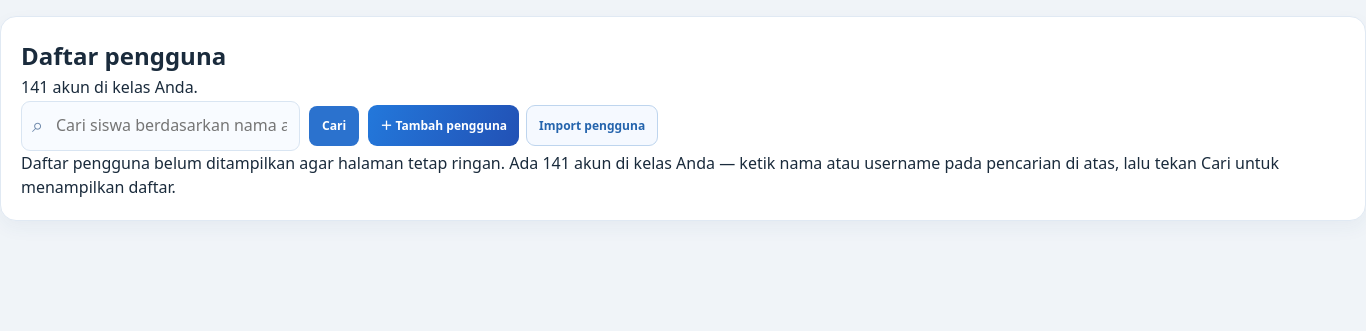
UsersPanel › teacher search-first mode renders results after searching and can reset to the initial state
Type "siswa" into the field with placeholder "Cari siswa berdasarkan nama atau username…" at (160, 126), box [21, 101, 300, 151]
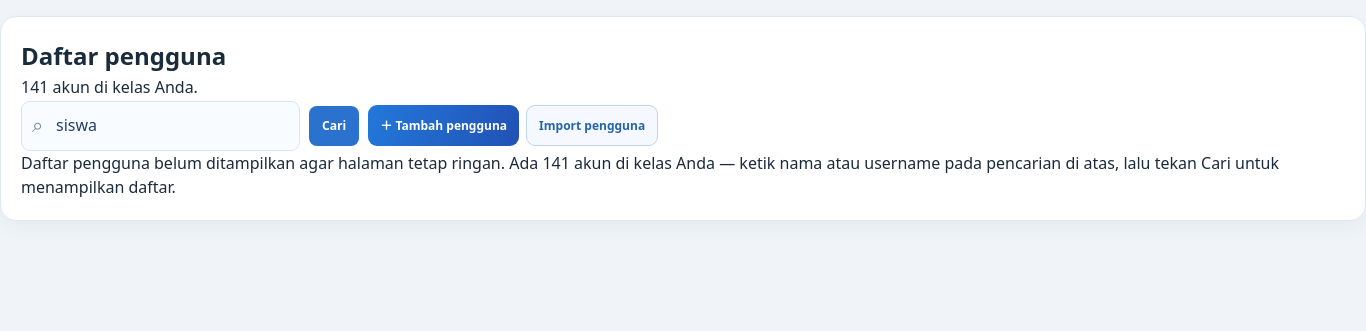
Click the button with class "search-button" at (334, 126), box [309, 106, 359, 146]
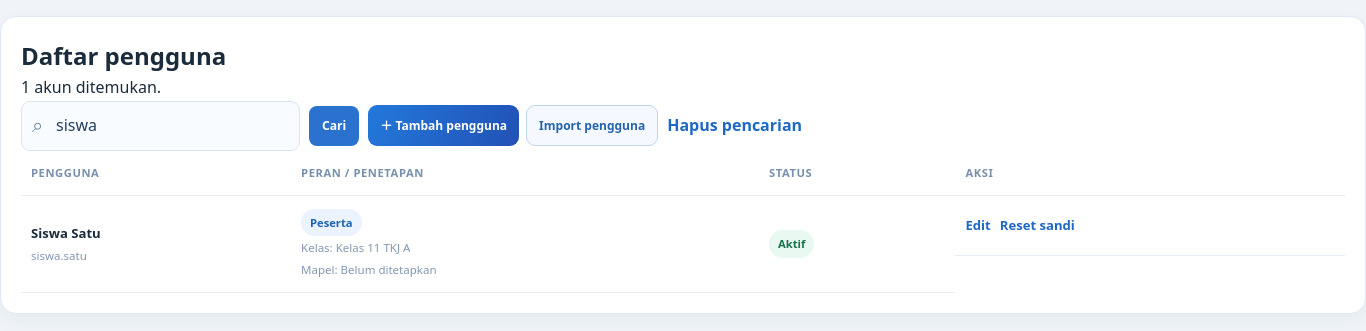
Now the table with class "user-table" is shown, box [21, 151, 1345, 293]
Now the text "Siswa Satu" is shown, box [31, 224, 101, 242]
Now the element with class "users-list-heading" shows "1 akun ditemukan.", box [21, 76, 161, 98]
Click the button with class "search-reset-button" at (735, 126), box [667, 107, 802, 145]
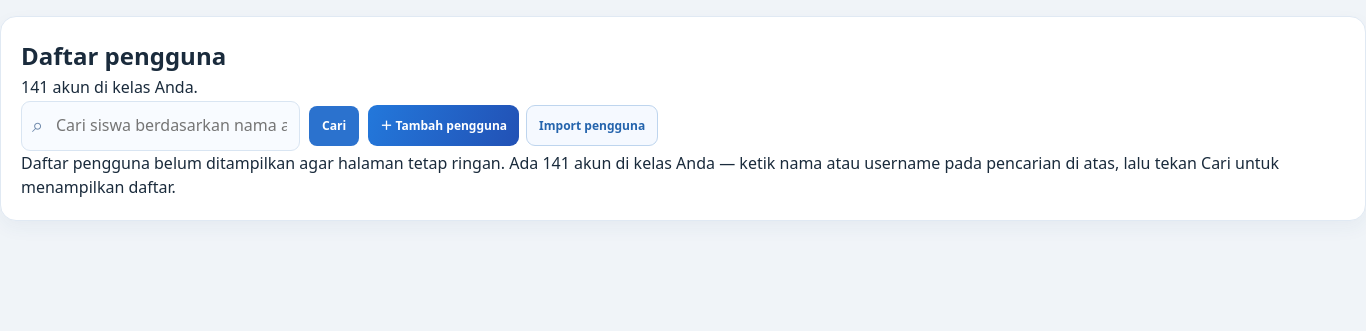
Now the text with class "teacher-search-hint" is shown, box [21, 151, 1345, 200]
Now the field with placeholder "Cari siswa berdasarkan nama atau username…" is empty, box [21, 101, 300, 151]
